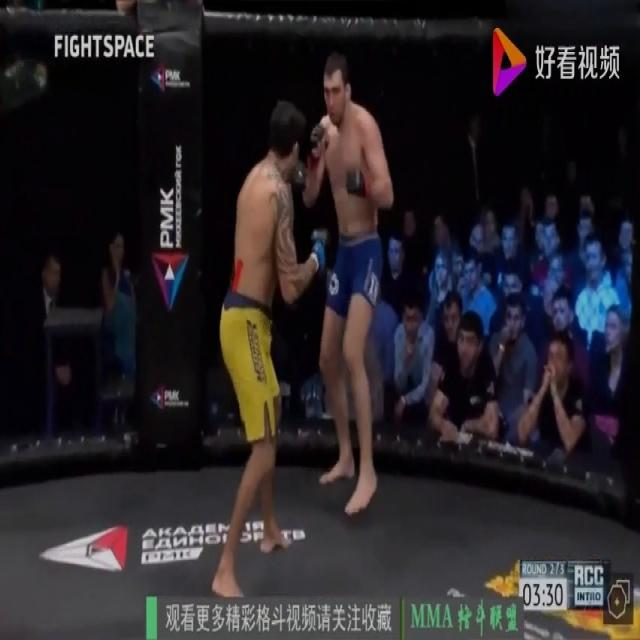fight: (207, 88, 389, 608)
